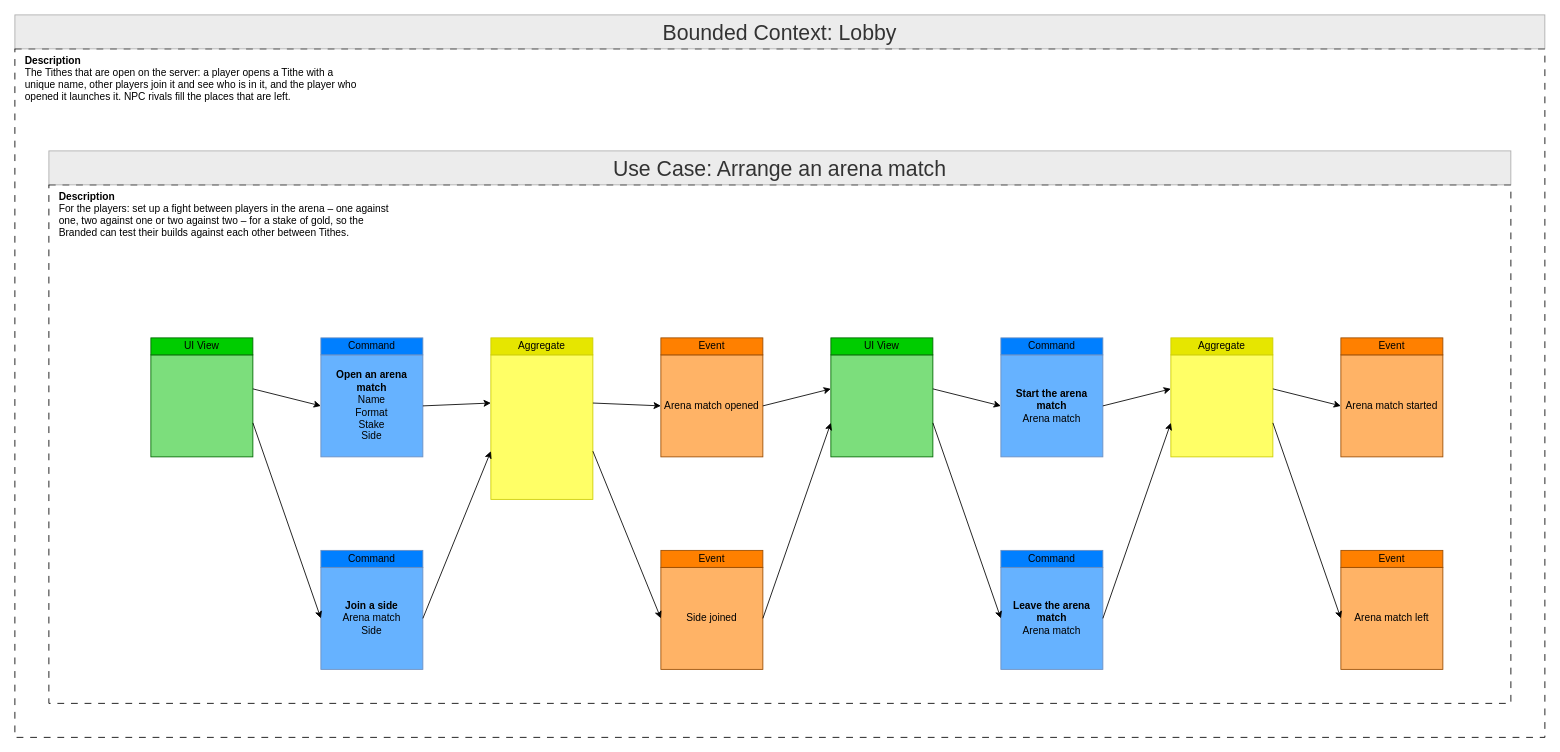
Image size: 1560x752. Some labels were removed from this diagram. Each missing label, with the centre of its shape:
"Arena board Player" goes at [201,405].
"Arena match Name Format Stake Opener Sides (many) · Number · Places · Players" goes at [541,426].
"Arena match Player" goes at [881,405].
"Arena match Sides (many) · Players" goes at [1221,405].
